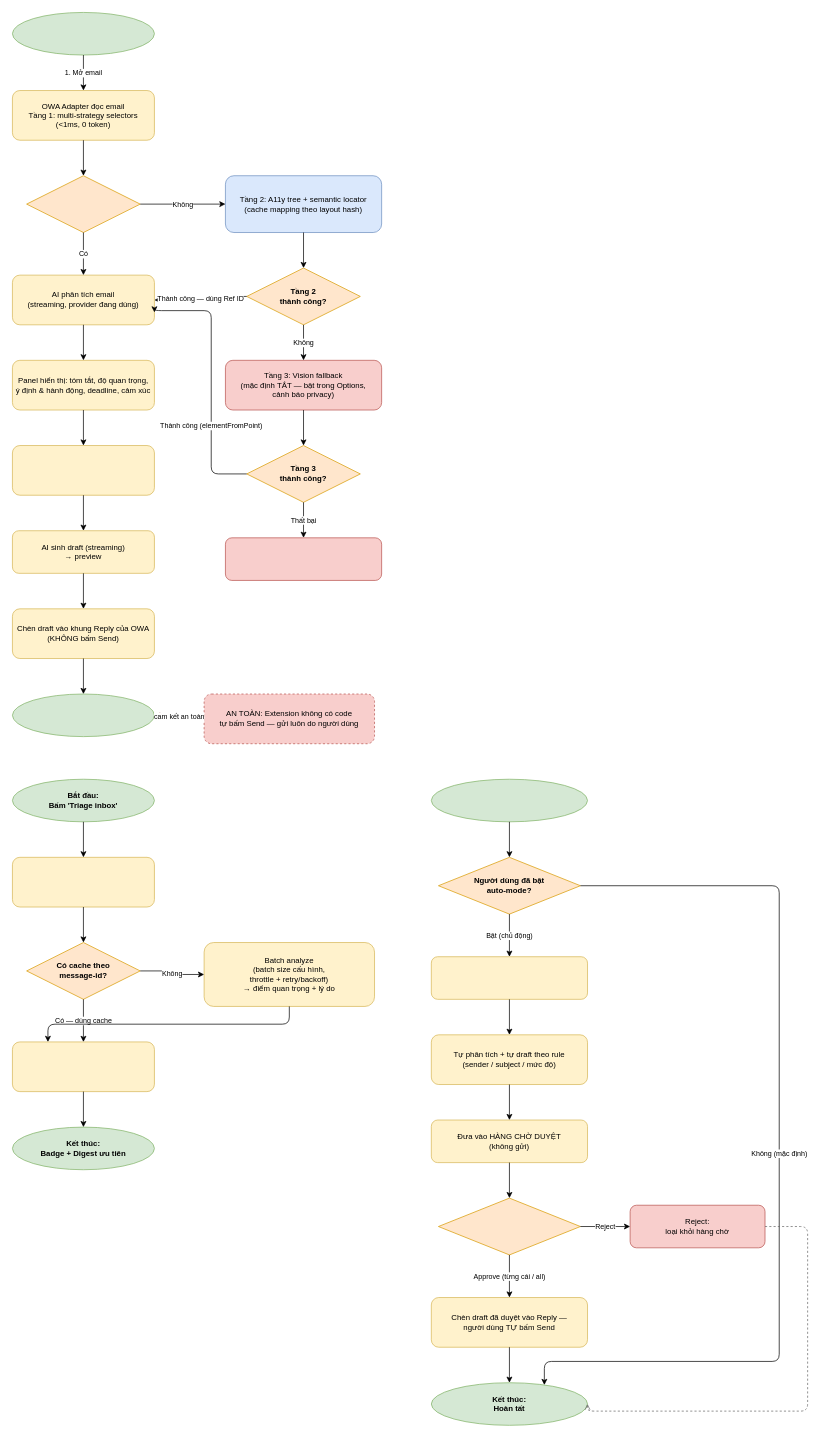
This 826x1438 diagram has some shape labels left out. Each missing label, with the centre of its shape:
Badge màu trên list item + panel Digest (sắp xếp theo điểm): the point at 83,1066
Báo lỗi + gợi ý bật Diagnose mode: the point at 303,558
Bắt đầu: Auto-mode (mặc định TẮT): the point at 509,800
Bắt đầu: Người dùng mở email trong OWA: the point at 83,33
Kết thúc: Người dùng tự xem/sửa/gửi trong OWA: the point at 83,715
Người dùng bấm 'Soạn trả lời': tone + ngôn ngữ + hướng dẫn thêm: the point at 83,470
Người dùng duyệt?: the point at 509,1226
Theo dõi email mới đến (MutationObserver): the point at 509,977
Tầng 1 tìm thấy phần tử?: the point at 83,204
Đọc danh sách email đang hiển thị (triage.ts — chỉ phần hiển thị): the point at 83,882
